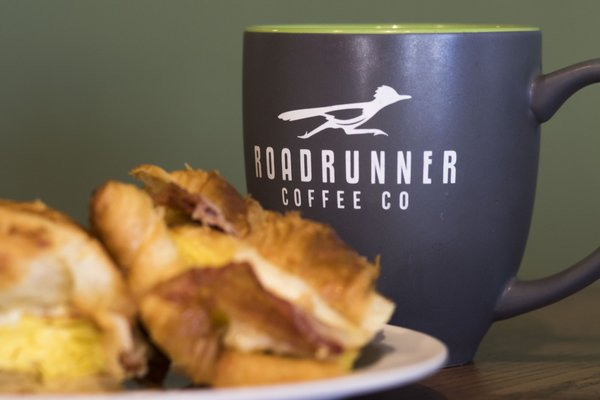pizza: (244, 20, 597, 368)
soup: (92, 161, 398, 387), (0, 196, 165, 391)
